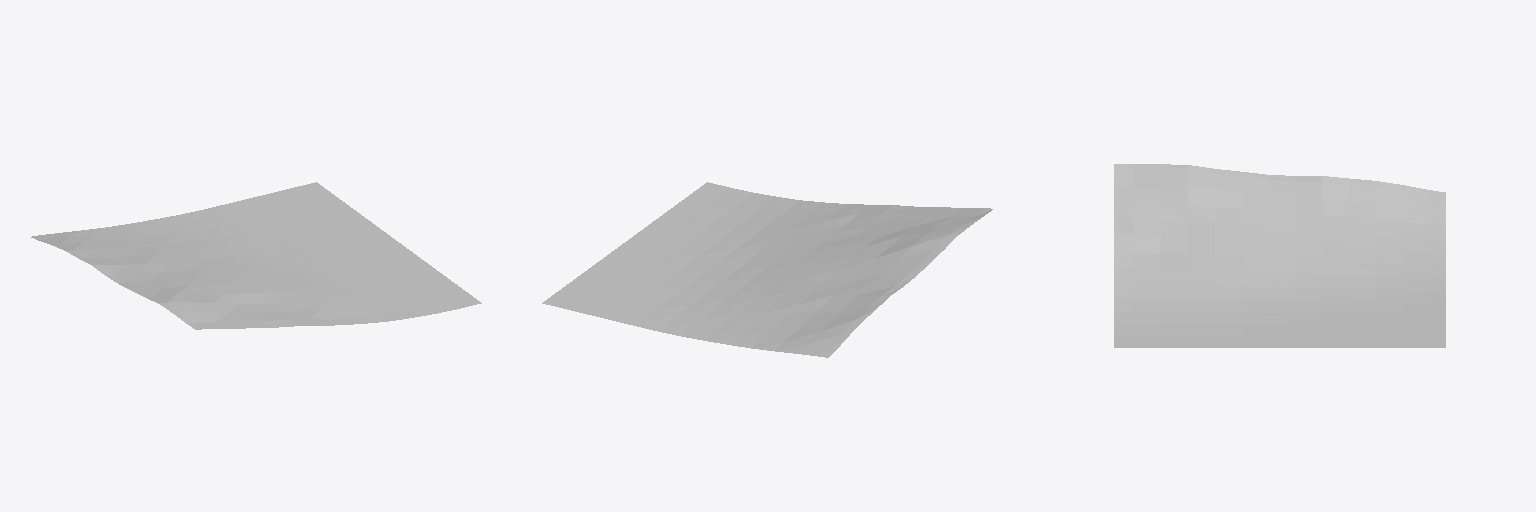
File: Landscape.071.obj
The picture shows the model from 3 angles: view 1: azimuth 30°, elevation 25°; view 2: azimuth 150°, elevation 25°; view 3: azimuth 270°, elevation 25°; orthographic projection.
Visible parts, largest first — view 1: Landscape.071; view 2: Landscape.071; view 3: Landscape.071.
Boxes of the visible parts, x1=… form: Landscape.071: x1=31, y1=182, x2=481, y2=329; Landscape.071: x1=542, y1=182, x2=992, y2=357; Landscape.071: x1=1114, y1=164, x2=1445, y2=347.
Size of the model in its own units: 32 by 4.62 by 32.